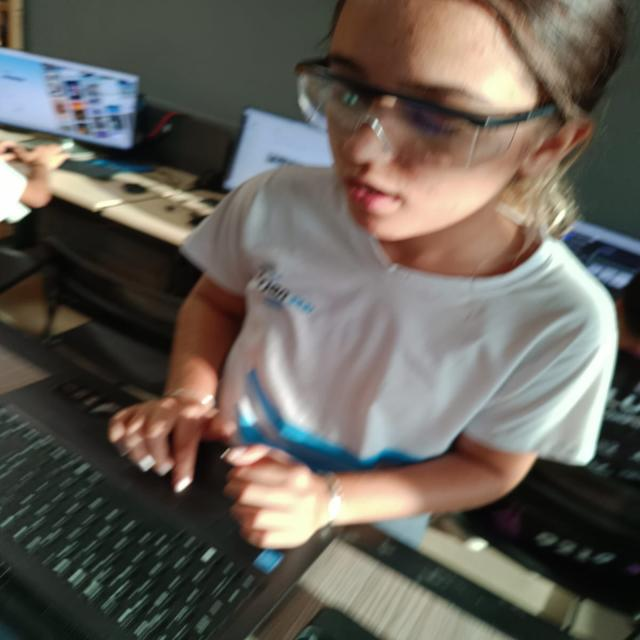oculos-epi: (293, 54, 558, 168)
